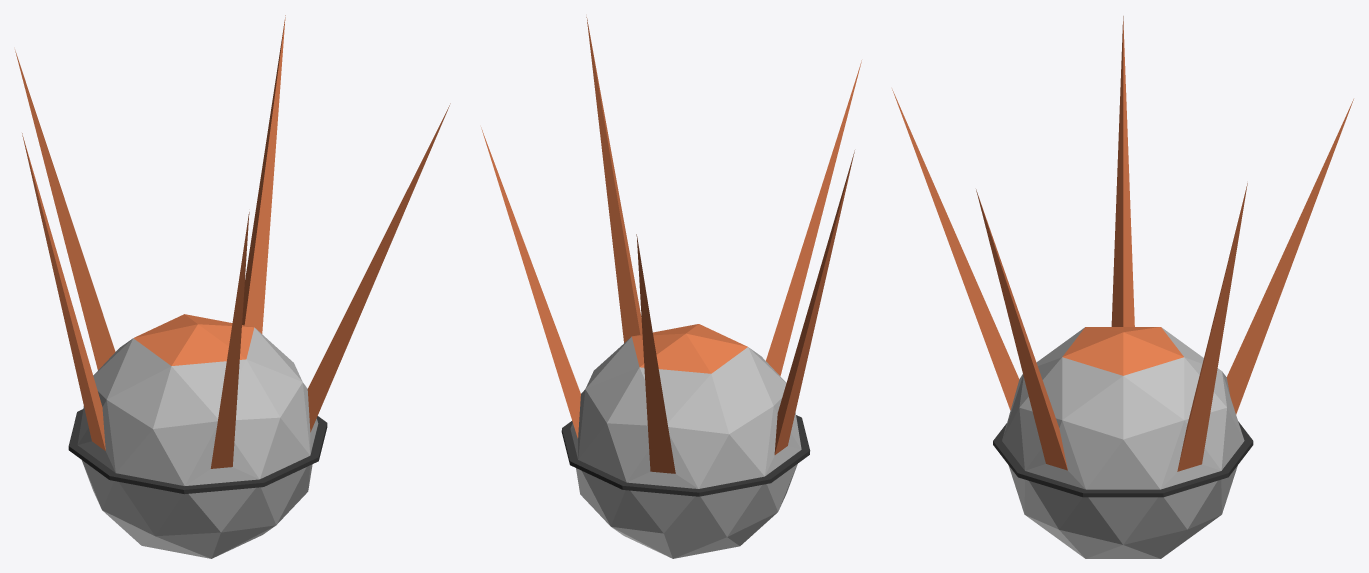
Rendered from Sputnik.fbx.
The picture shows the model from 3 angles, left to right: view 1: azimuth 30°, elevation 25°; view 2: azimuth 150°, elevation 25°; view 3: azimuth 270°, elevation 25°; orthographic projection. The views are drawn at different scales.
Visible parts, largest first — view 1: Sputnik; view 2: Sputnik; view 3: Sputnik.
Part boxes in pixels (x1,y1,x2,y2): Sputnik: [15, 15, 450, 558]; Sputnik: [481, 17, 861, 558]; Sputnik: [892, 16, 1353, 558].
Bounding box in the file's own units: 109 × 135 × 125.
